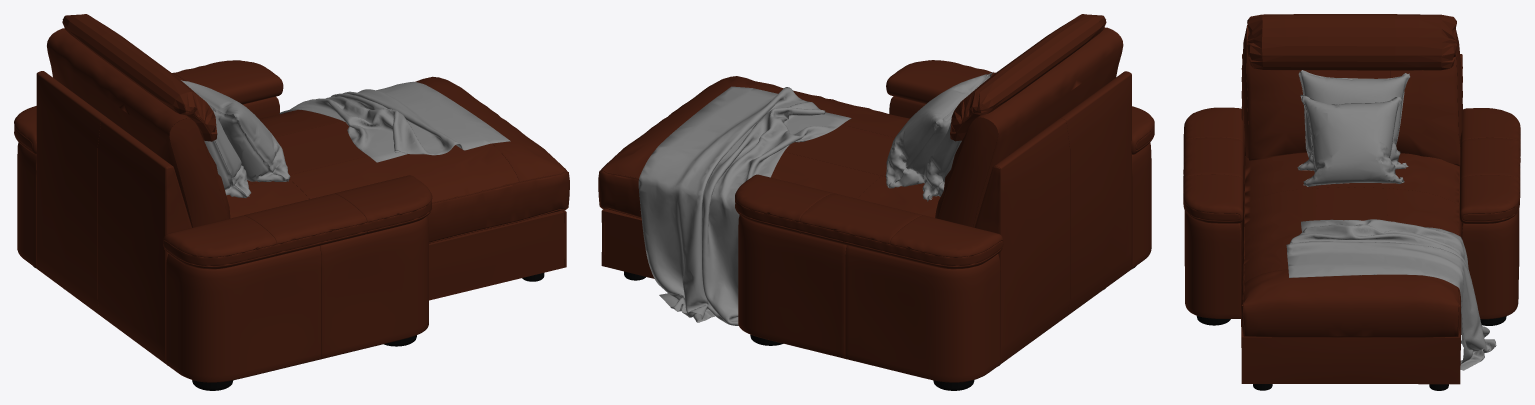
File: kazetka_LOW.fbx
The picture shows the model from 3 angles, left to right: view 1: azimuth 30°, elevation 25°; view 2: azimuth 150°, elevation 25°; view 3: azimuth 270°, elevation 25°; orthographic projection. The views are drawn at different scales.
Parts seen in each view (by area): view 1: Box149, Box147, Box144, Group029, Box145, Plane005, Box143, Group030, Box148, Box146; view 2: Box146, Box147, Plane005, Group029, Box144, Box145, Group030, Box148, Box149, Box143; view 3: Box144, Group029, Box145, Box148, Plane005, Group030, Box143, Box149, Box146.
Part boxes in pixels (bbox=[...]): Box149: bbox=[166, 215, 428, 382]; Box147: bbox=[36, 71, 191, 363]; Box144: bbox=[226, 76, 569, 243]; Group029: bbox=[14, 60, 432, 269]; Box145: bbox=[47, 28, 230, 227]; Plane005: bbox=[279, 81, 510, 162]; Box143: bbox=[429, 210, 566, 300]; Group030: bbox=[181, 80, 290, 197]; Box148: bbox=[62, 14, 217, 141]; Box146: bbox=[17, 96, 279, 267]; Box146: bbox=[738, 215, 1000, 382]; Box147: bbox=[974, 71, 1131, 363]; Plane005: bbox=[638, 86, 851, 325]; Group029: bbox=[735, 60, 1154, 269]; Box144: bbox=[598, 76, 940, 218]; Box145: bbox=[935, 27, 1123, 227]; Group030: bbox=[885, 72, 992, 201]; Box148: bbox=[950, 14, 1106, 141]; Box149: bbox=[889, 96, 1151, 268]; Box143: bbox=[601, 209, 654, 278]; Box144: bbox=[1241, 153, 1461, 337]; Group029: bbox=[1183, 107, 1520, 223]; Box145: bbox=[1242, 25, 1462, 166]; Box148: bbox=[1247, 14, 1456, 70]; Plane005: bbox=[1286, 219, 1496, 370]; Group030: bbox=[1297, 70, 1410, 186]; Box143: bbox=[1241, 241, 1461, 384]; Box149: bbox=[1184, 210, 1241, 318]; Box146: bbox=[1461, 209, 1519, 319].
Bounding box in the file's own units: 1650 × 1042 × 1391.
